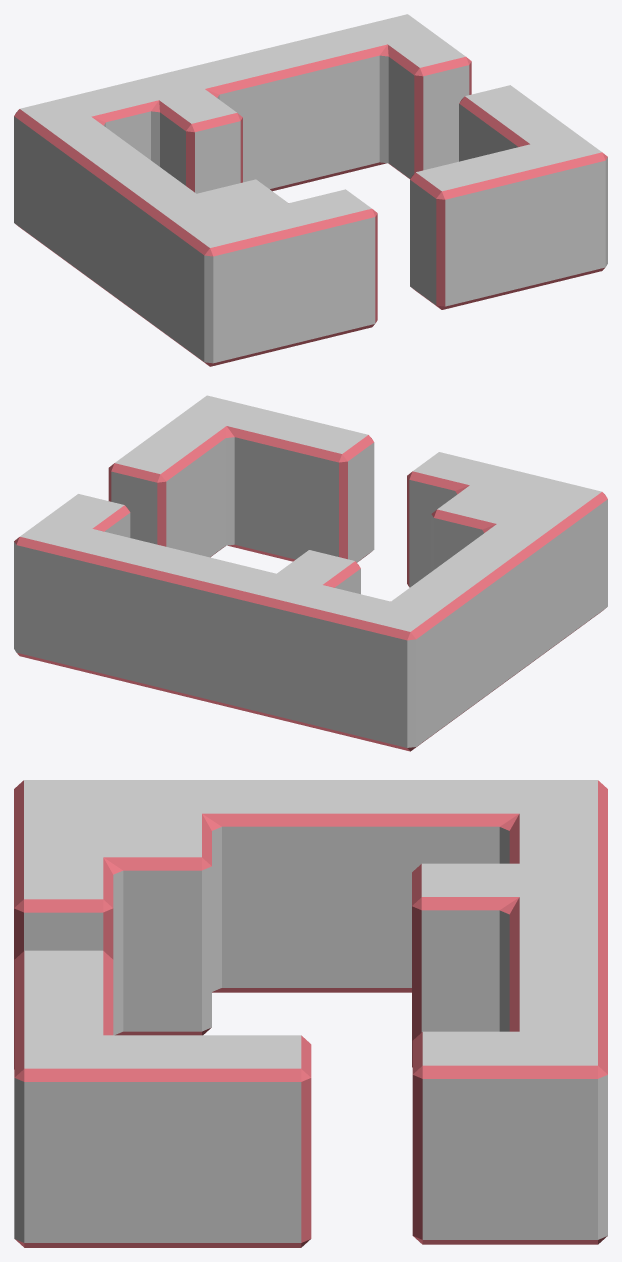
Rendered from Lvl2.fbx.
3 renders of one model, top to bottom at view 1: azimuth 30°, elevation 25°; view 2: azimuth 150°, elevation 25°; view 3: azimuth 270°, elevation 25°, orthographic. The views are drawn at different scales.
Parts seen in each view (by area): view 1: Cube.027, Cube.026; view 2: Cube.027, Cube.026; view 3: Cube.027, Cube.026.
Boxes of the visible parts, left/top/right/bottom form: Cube.027: left=14, top=14, right=471, bottom=366; Cube.026: left=410, top=85, right=607, bottom=309; Cube.027: left=14, top=452, right=607, bottom=751; Cube.026: left=108, top=395, right=374, bottom=562; Cube.027: left=14, top=780, right=607, bottom=1244; Cube.026: left=14, top=950, right=311, bottom=1247.
Size of the model in its own units: 7.08 by 1.99 by 5.98.
